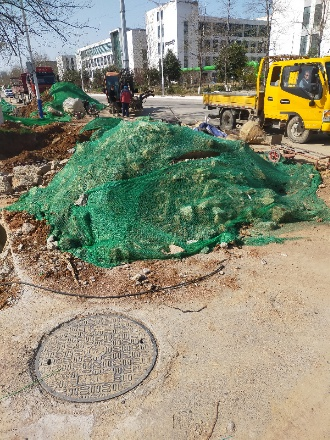good: (31, 312, 157, 403)
